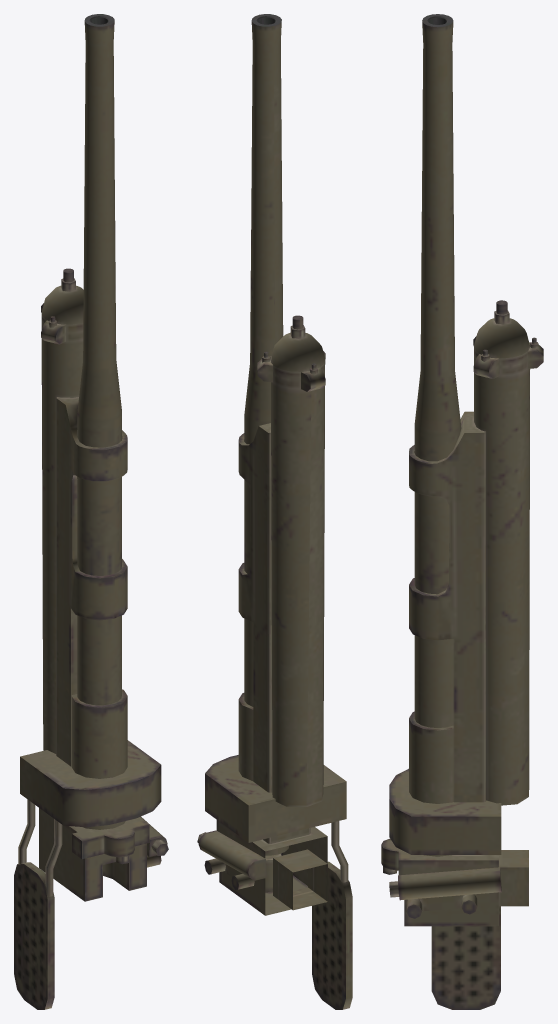
The model's file is Gun_03.glb.
3 views of the same model, side by side, from view 1: azimuth 30°, elevation 25°; view 2: azimuth 210°, elevation 25°; view 3: azimuth 270°, elevation 25° (orthographic). The views are drawn at different scales.
Parts seen in each view (by area): view 1: set_0_group_0; view 2: set_0_group_0; view 3: set_0_group_0.
Part boxes in pixels (<box>): set_0_group_0: <box>14,14,168,1009</box>; set_0_group_0: <box>197,14,352,1009</box>; set_0_group_0: <box>381,14,543,1009</box>.
Bounding box in the file's own units: 0.2761 × 2.49 × 0.3613.
1 material, 1 textured.
